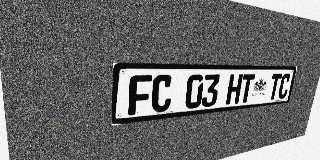0: (184, 74, 205, 109)
3: (201, 74, 220, 108)
C: (151, 75, 173, 113), (277, 74, 291, 99)
F: (128, 75, 152, 116)
H: (226, 74, 243, 105)
T: (239, 74, 255, 103), (267, 74, 282, 100)
